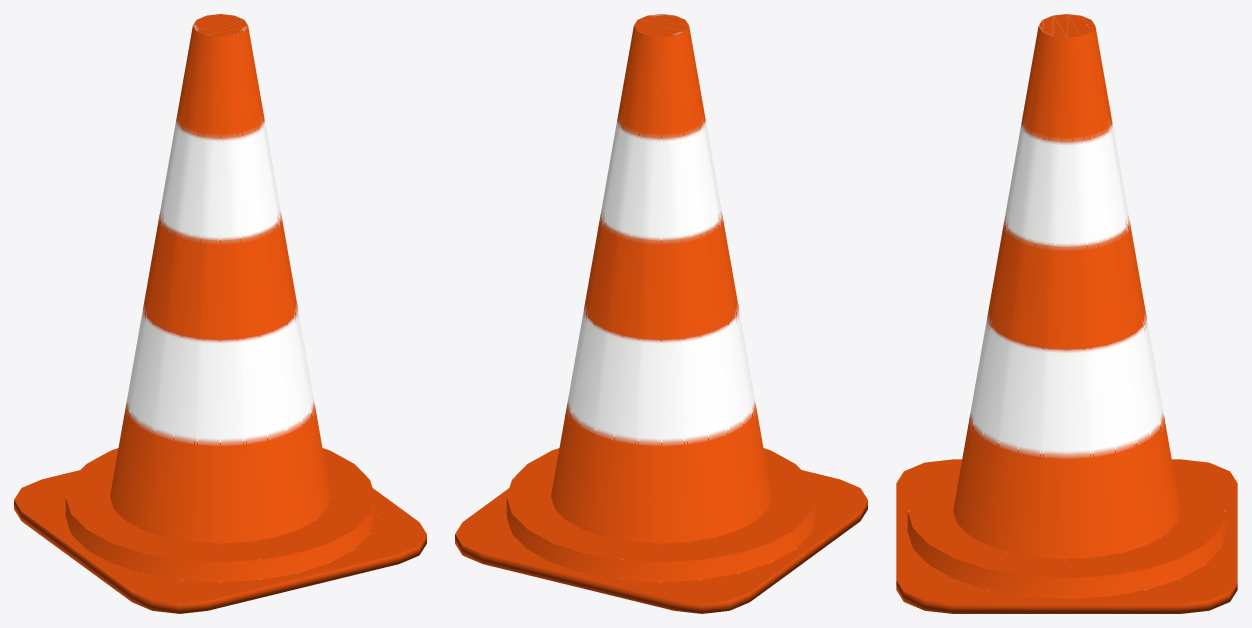
The model's file is traffic_cone_medium_poly.fbx.
3 renders of one model, left to right at view 1: azimuth 30°, elevation 25°; view 2: azimuth 150°, elevation 25°; view 3: azimuth 270°, elevation 25°, orthographic. The views are drawn at different scales.
Parts seen in each view (by area): view 1: traffic_cone_medium_poly; view 2: traffic_cone_medium_poly; view 3: traffic_cone_medium_poly.
Part boxes in pixels (<box>): traffic_cone_medium_poly: <box>14,14,426,613</box>; traffic_cone_medium_poly: <box>455,14,867,613</box>; traffic_cone_medium_poly: <box>896,14,1237,613</box>.
Bounding box in the file's own units: 30 × 50 × 30.
